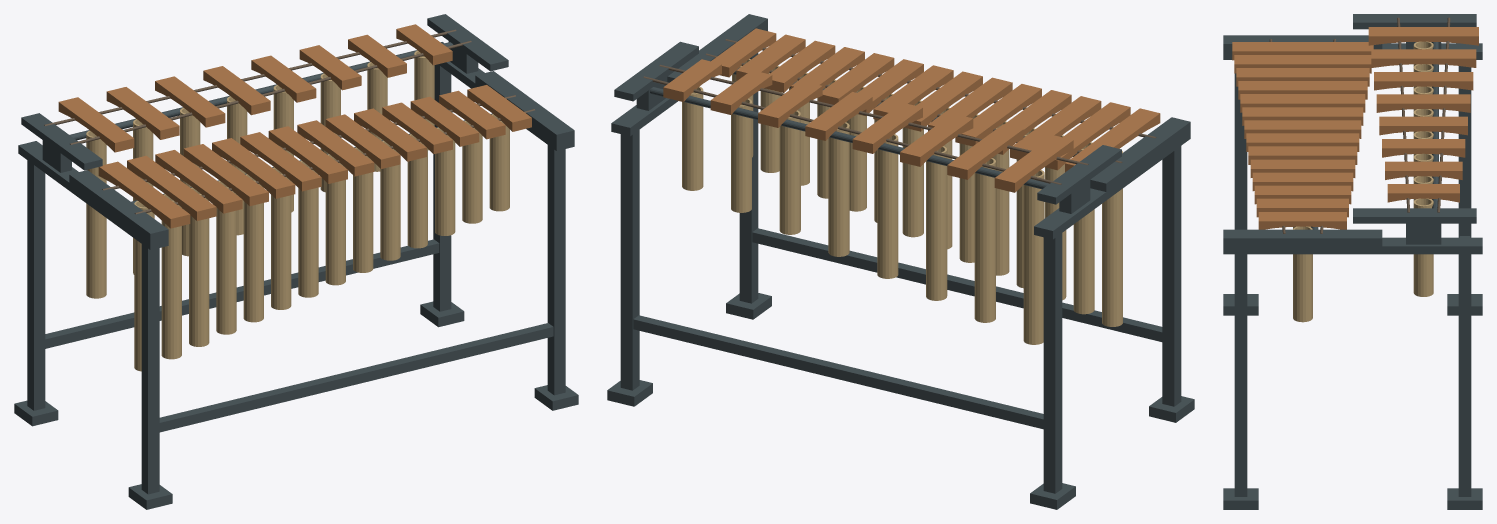
3 views of the same model, side by side, from view 1: azimuth 30°, elevation 25°; view 2: azimuth 150°, elevation 25°; view 3: azimuth 270°, elevation 25° (orthographic). The views are drawn at different scales.
Parts seen in each view (by area): view 1: LowerLongStretcher_-0.38, Leg_-1_1, Leg_-1_-1, Leg_1_-1, LowerLongStretcher_0.38, OpenMouthClosedBottomPipe_0_02, OpenMouthClosedBottomPipe_0_01, OpenMouthClosedBottomPipe_0_03, OpenMouthClosedBottomPipe_0_04, LowerCordEndBeam_-1, OpenMouthClosedBottomPipe_0_05, OpenMouthClosedBottomPipe_1_00 (+52 smaller); view 2: LowerLongStretcher_0.38, Leg_-1_1, Leg_-1_-1, Leg_1_1, LowerLongStretcher_-0.38, OpenMouthClosedBottomPipe_1_01, OpenMouthClosedBottomPipe_1_00, OpenMouthClosedBottomPipe_1_02, OpenMouthClosedBottomPipe_1_03, OpenMouthClosedBottomPipe_0_00, OpenMouthClosedBottomPipe_1_04, LowerCordEndBeam_-1 (+49 smaller); view 3: Leg_1_1, Leg_1_-1, EndCrossBeam_1, LowerCordEndBeam_1, UpperCordEndBeam_1, SeparateArchedWoodBar_0_00, SeparateArchedWoodBar_0_01, SeparateArchedWoodBar_1_00, SeparateArchedWoodBar_0_04, SeparateArchedWoodBar_1_01, SeparateArchedWoodBar_0_02, SeparateArchedWoodBar_0_05 (+31 smaller).
Part boxes in pixels (<box>): LowerLongStretcher_-0.38: <box>159,323,553,432</box>; Leg_-1_1: <box>27,146,45,410</box>; Leg_-1_-1: <box>141,244,159,494</box>; Leg_1_-1: <box>547,145,565,395</box>; LowerLongStretcher_0.38: <box>45,239,439,348</box>; OpenMouthClosedBottomPipe_0_02: <box>189,187,209,346</box>; OpenMouthClosedBottomPipe_0_01: <box>161,194,181,359</box>; OpenMouthClosedBottomPipe_0_03: <box>216,181,236,334</box>; OpenMouthClosedBottomPipe_0_04: <box>243,174,263,322</box>; LowerCordEndBeam_-1: <box>69,170,168,243</box>; OpenMouthClosedBottomPipe_0_05: <box>271,167,291,309</box>; OpenMouthClosedBottomPipe_1_00: <box>86,130,106,298</box>; LowerLongStretcher_0.38: <box>633,315,1043,429</box>; Leg_-1_1: <box>1043,218,1062,493</box>; Leg_-1_-1: <box>1162,146,1181,406</box>; Leg_1_1: <box>620,115,639,390</box>; LowerLongStretcher_-0.38: <box>752,228,1162,341</box>; OpenMouthClosedBottomPipe_1_01: <box>974,158,995,322</box>; OpenMouthClosedBottomPipe_1_00: <box>1023,170,1044,344</box>; OpenMouthClosedBottomPipe_1_02: <box>926,146,947,300</box>; OpenMouthClosedBottomPipe_1_03: <box>877,134,898,278</box>; OpenMouthClosedBottomPipe_0_00: <box>1102,151,1122,326</box>; OpenMouthClosedBottomPipe_1_04: <box>828,122,849,256</box>; LowerCordEndBeam_-1: <box>1090,117,1190,192</box>; Leg_1_1: <box>1458,239,1471,496</box>; Leg_1_-1: <box>1234,254,1247,496</box>; EndCrossBeam_1: <box>1223,237,1482,254</box>; LowerCordEndBeam_1: <box>1223,229,1382,246</box>; UpperCordEndBeam_1: <box>1353,208,1476,223</box>; SeparateArchedWoodBar_0_00: <box>1232,42,1373,60</box>; SeparateArchedWoodBar_0_01: <box>1234,55,1371,73</box>; SeparateArchedWoodBar_1_00: <box>1368,27,1478,45</box>; SeparateArchedWoodBar_0_04: <box>1240,94,1365,112</box>; SeparateArchedWoodBar_1_01: <box>1371,49,1476,67</box>; SeparateArchedWoodBar_0_02: <box>1236,68,1369,86</box>; SeparateArchedWoodBar_0_05: <box>1242,107,1363,125</box>.
Size of the model in its own units: 1.66 by 1.11 by 0.88.
